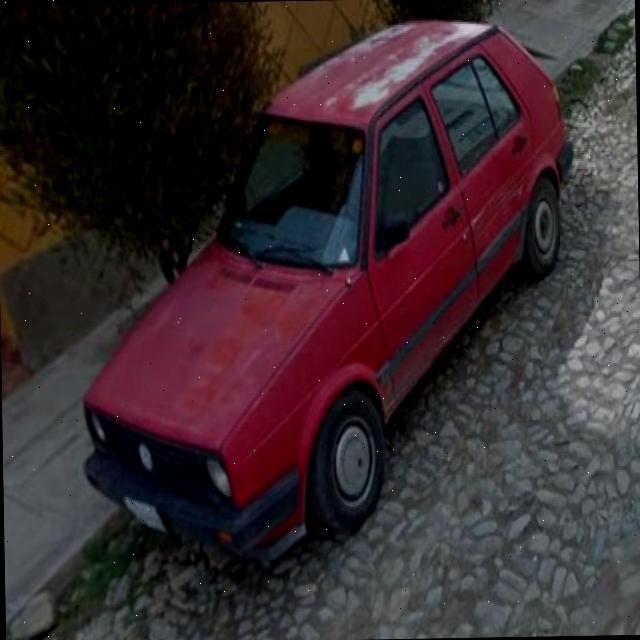car: (81, 19, 571, 578)
